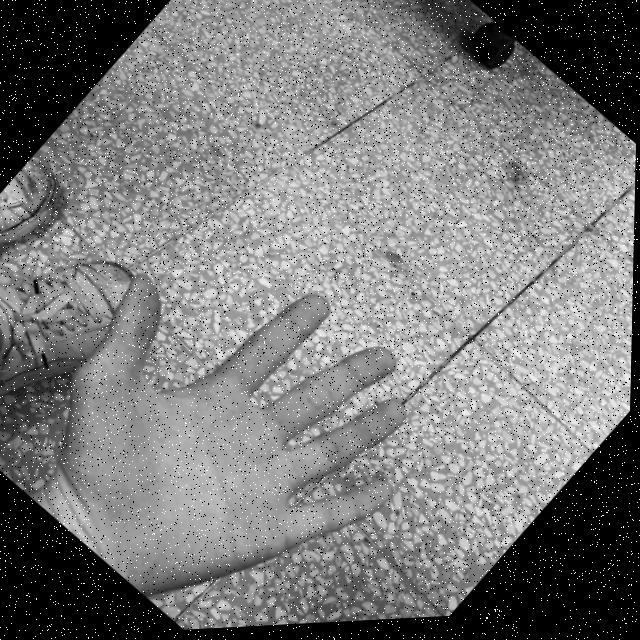no-gloves: (0, 177, 481, 640)
